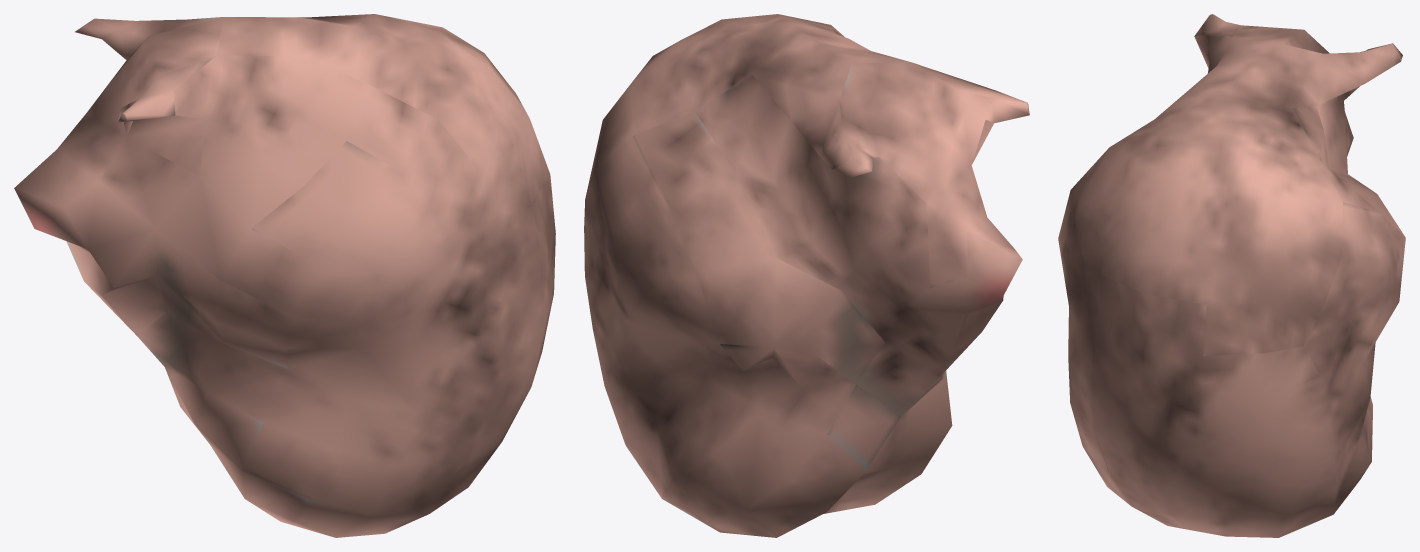
File: Asset_02_pig_v001.obj
3 views of the same model, side by side, from view 1: azimuth 30°, elevation 25°; view 2: azimuth 150°, elevation 25°; view 3: azimuth 270°, elevation 25° (orthographic). The views are drawn at different scales.
Parts seen in each view (by area): view 1: pig_low; view 2: pig_low; view 3: pig_low.
Boxes of the visible parts, x1=… form: pig_low: x1=14, y1=14, x2=555, y2=537; pig_low: x1=584, y1=14, x2=1029, y2=537; pig_low: x1=1058, y1=14, x2=1405, y2=537.
Size of the model in its own units: 4.72 by 4.78 by 3.47.
